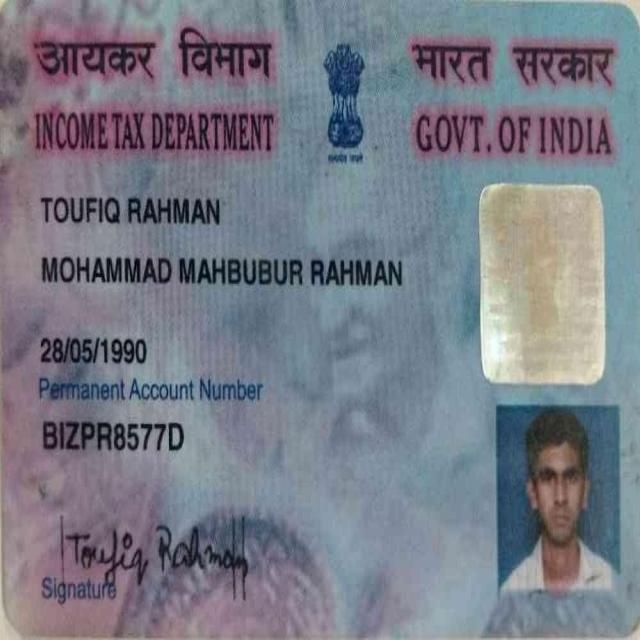pan_card: (1, 1, 637, 632)
